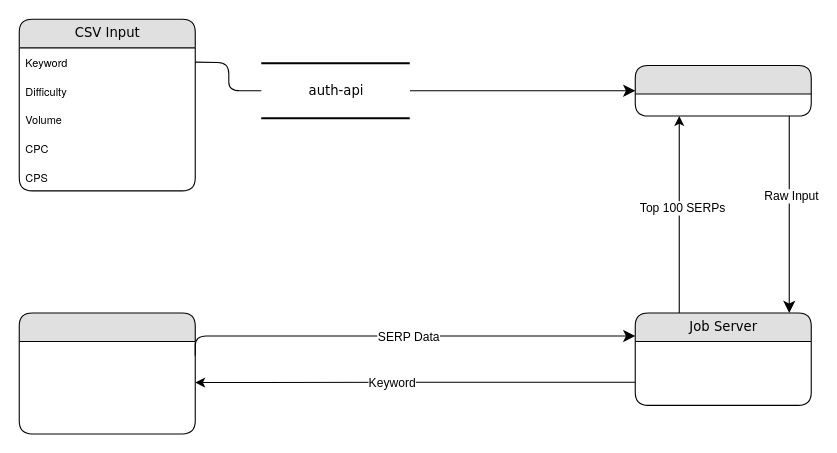
The diagram is 837 pixels wide and 453 high, and some of its shapes have lost their labels. Each missing label, with the centre of its shape:
"Google Cloud" belongs at [722,90].
"SERP API" belongs at [106,373].
